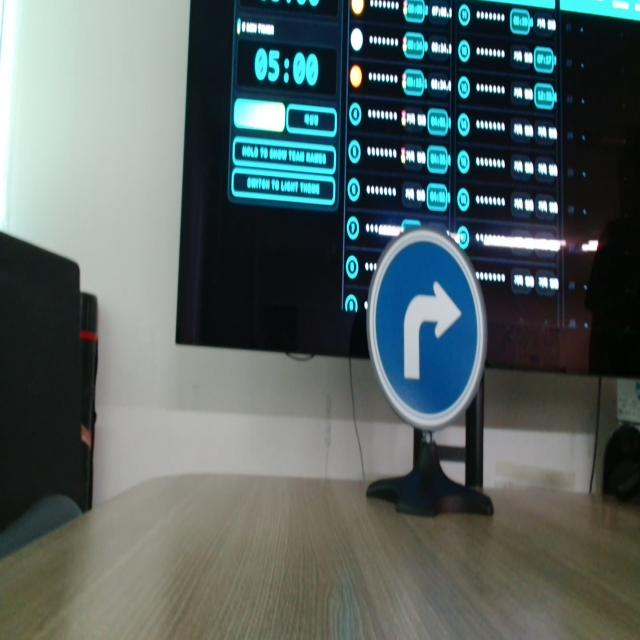right_dierection: (364, 224, 490, 436)
